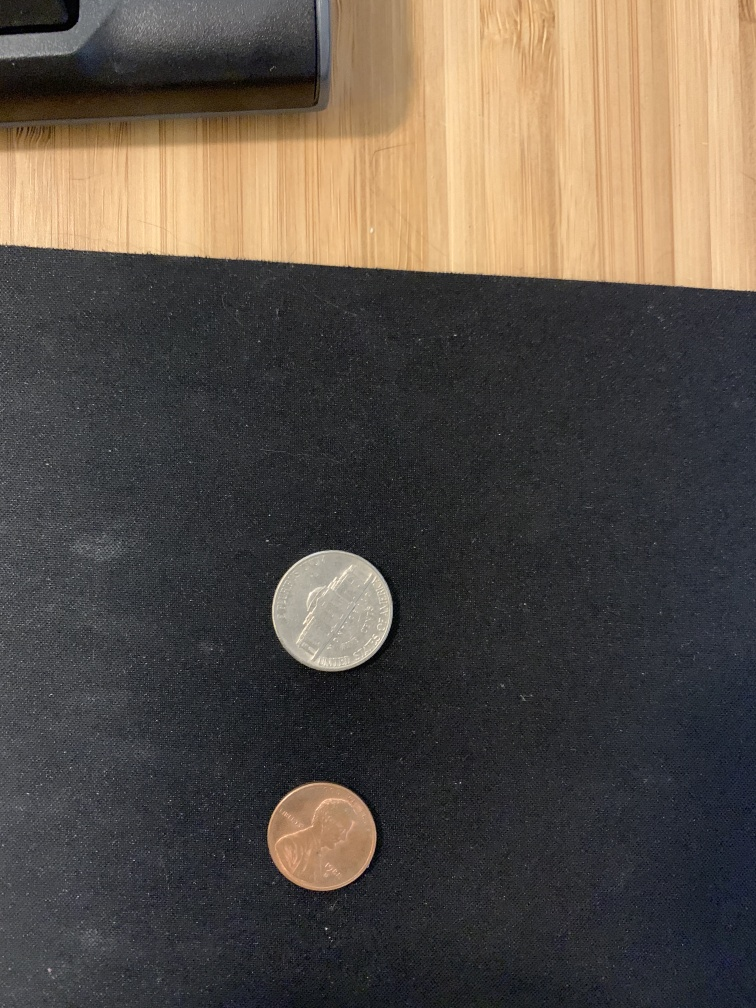nickel: (267, 545, 399, 675)
penny: (261, 778, 384, 896)
